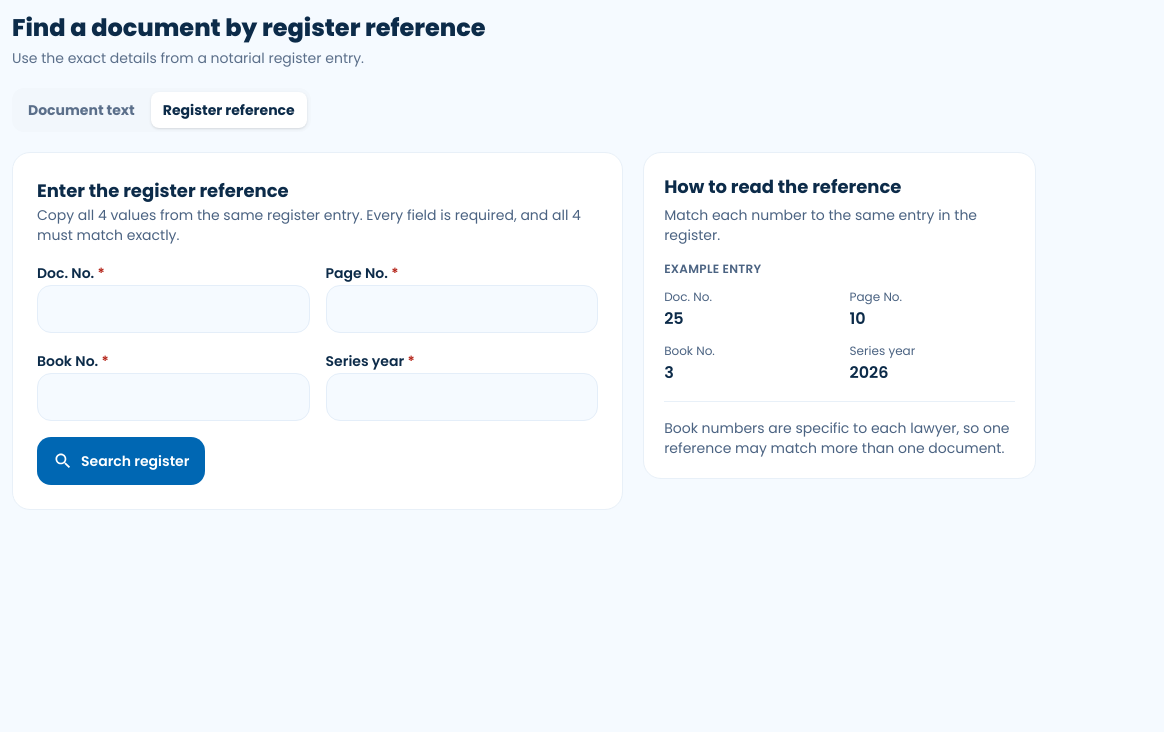
Test: SearchPage › shows an empty state when the complete reference has no matching record
The image size is (1164, 732).
Type "25" into the number field labelled "Doc. No." at {"x": 173, "y": 309}, box [37,285,310,333]
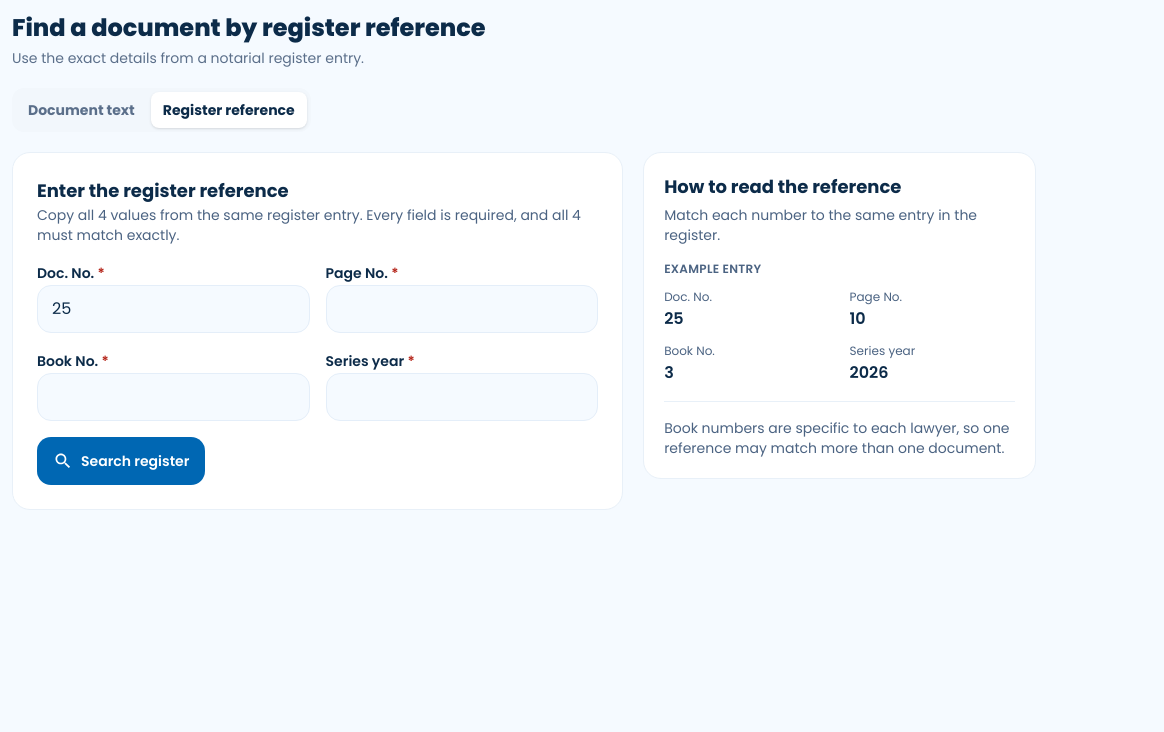
Type "10" into the number field labelled "Page No." at {"x": 462, "y": 309}, box [326,285,598,333]
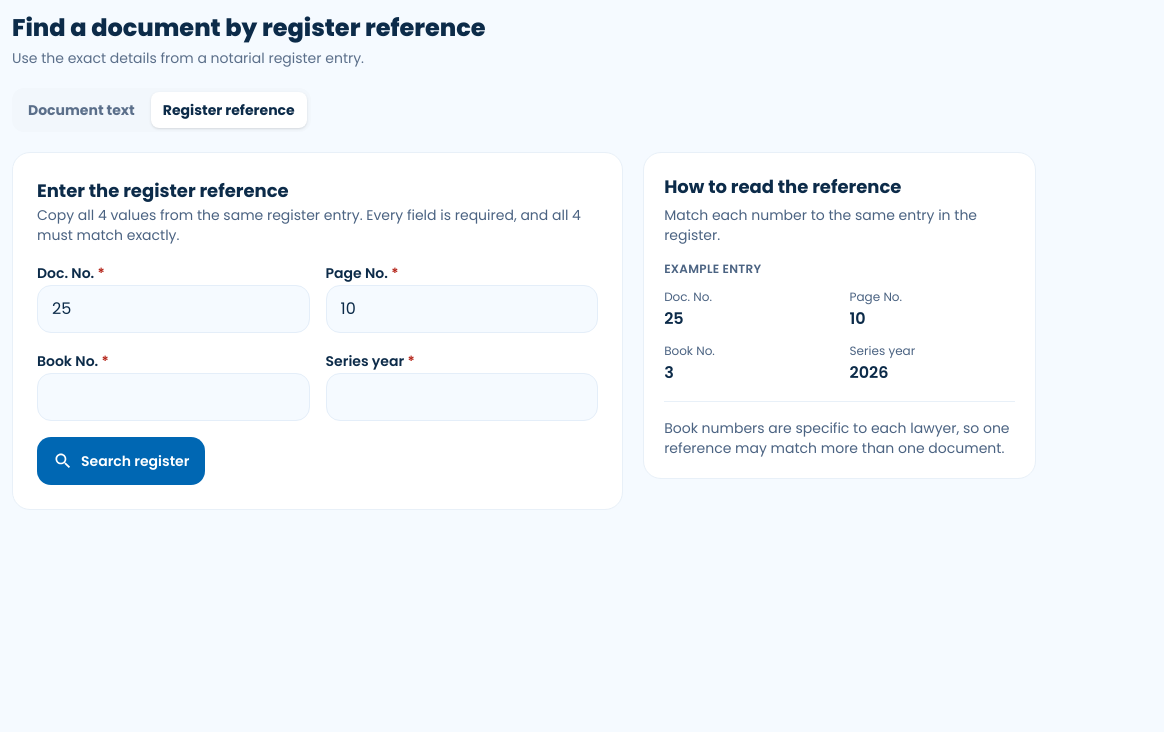
Type "3" into the number field labelled "Book No." at {"x": 173, "y": 397}, box [37,373,310,421]
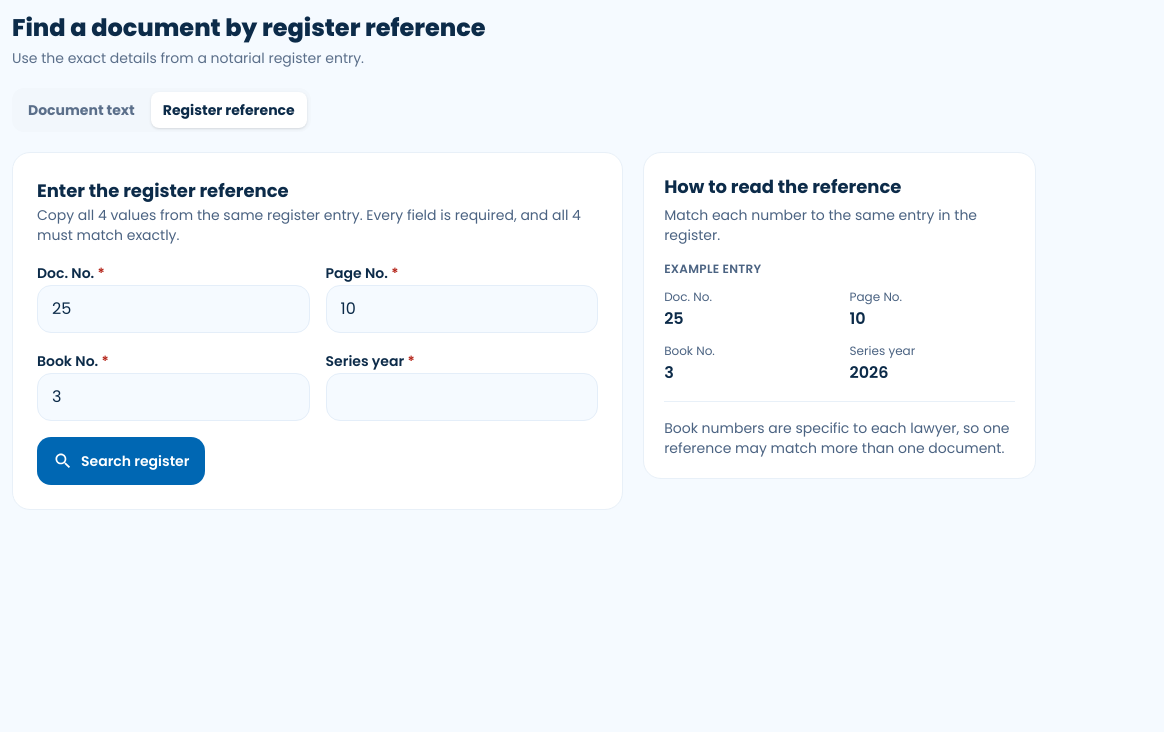
Type "2026" into the number field labelled "Series year" at {"x": 462, "y": 397}, box [326,373,598,421]
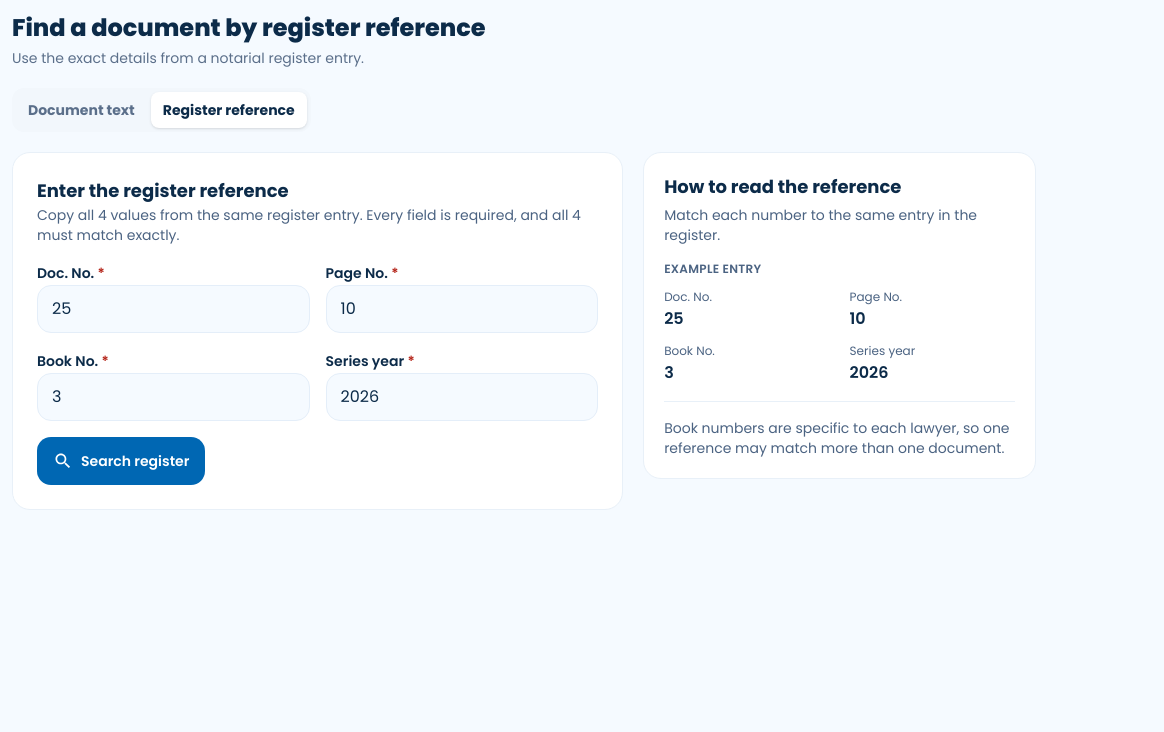
Click the button "Search register" at {"x": 121, "y": 461}, box [37,437,205,485]
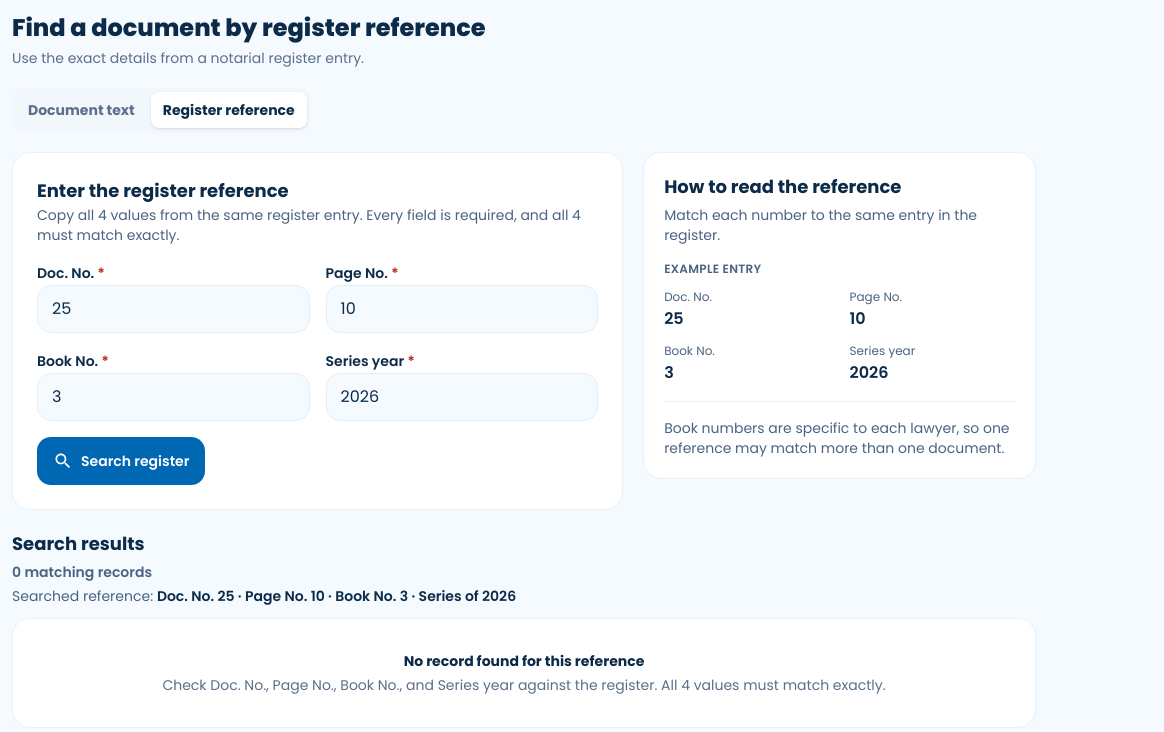
Expected: the text "No record found for this reference" is shown, [404,651,644,671]
